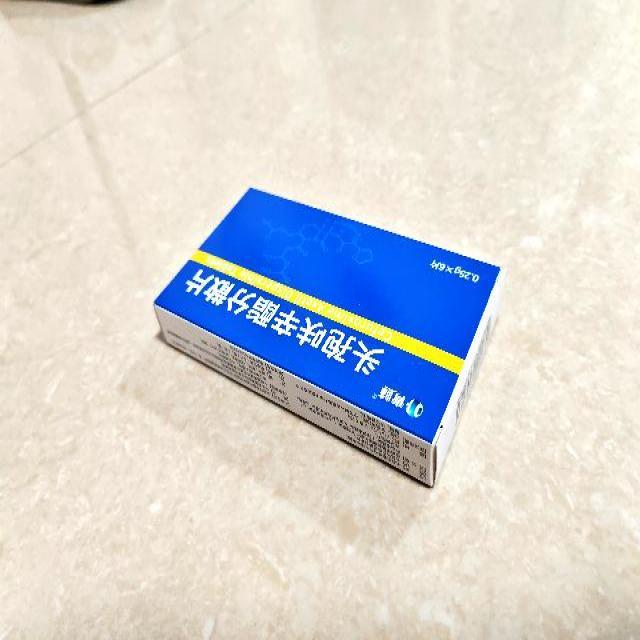box: (154, 183, 506, 486)
